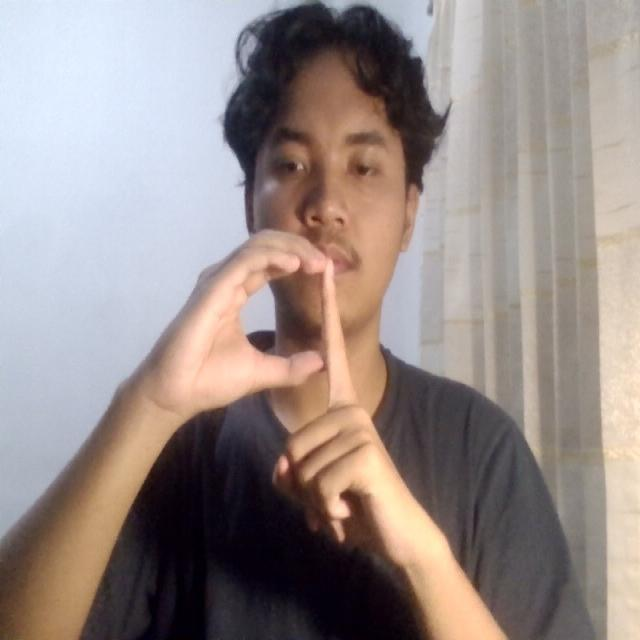D: (167, 226, 418, 562)
